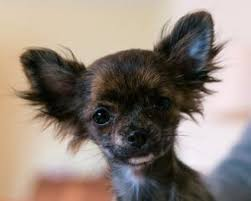chihuahua: (10, 6, 230, 201)
